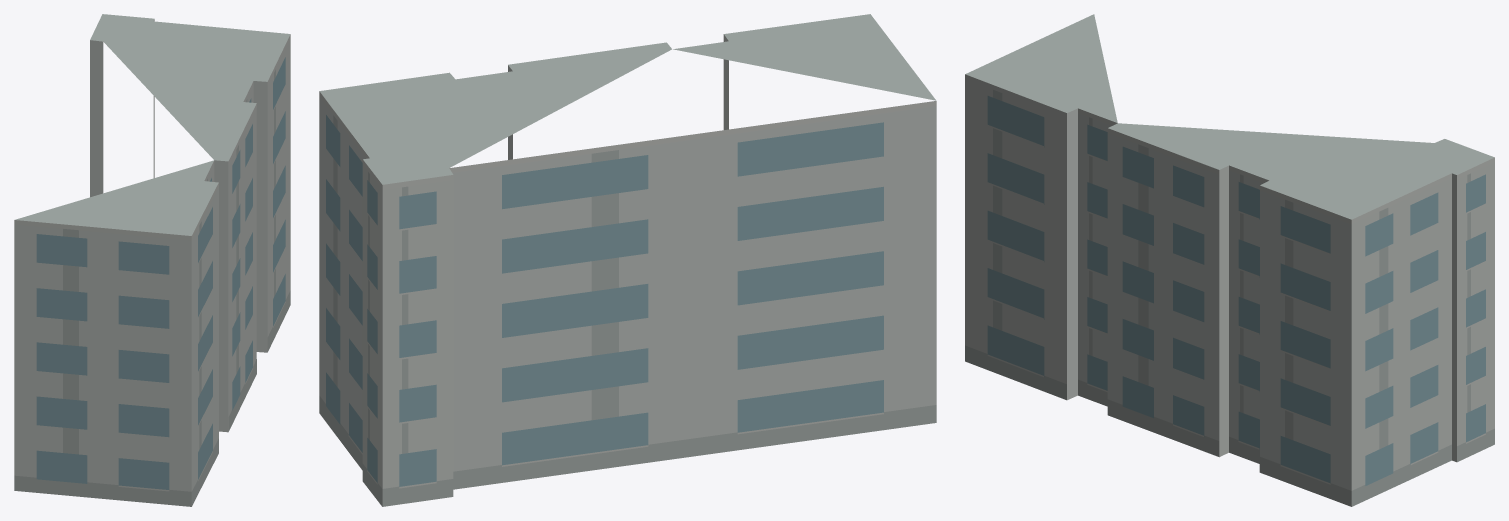
Rendered from survey-upis-32615301.glb.
3 renders of one model, left to right at view 1: azimuth 30°, elevation 25°; view 2: azimuth 150°, elevation 25°; view 3: azimuth 270°, elevation 25°, orthographic. The views are drawn at different scales.
Parts seen in each view (by area): view 1: survey-upis-32615301.tmp; view 2: survey-upis-32615301.tmp; view 3: survey-upis-32615301.tmp.
Boxes of the visible parts, left/top/right/bottom form: survey-upis-32615301.tmp: left=14, top=14, right=290, bottom=506; survey-upis-32615301.tmp: left=319, top=14, right=936, bottom=506; survey-upis-32615301.tmp: left=965, top=14, right=1494, bottom=506.
Size of the model in its own units: 22.83 by 14.85 by 24.84.
